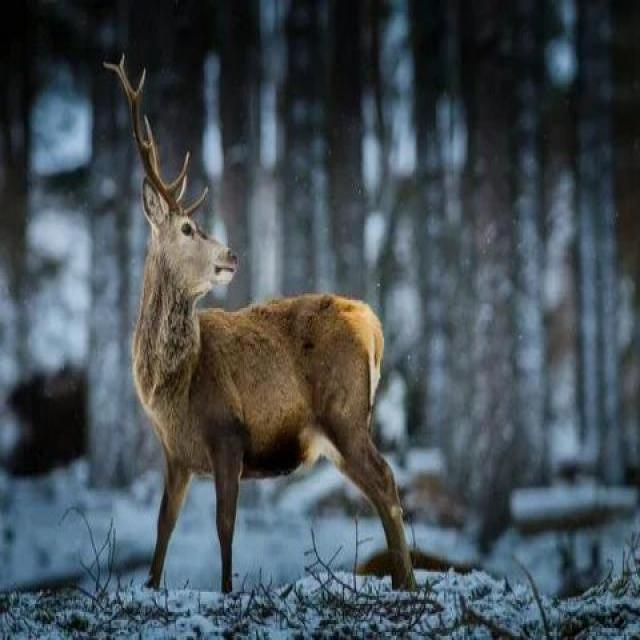deer: (94, 114, 400, 565)
